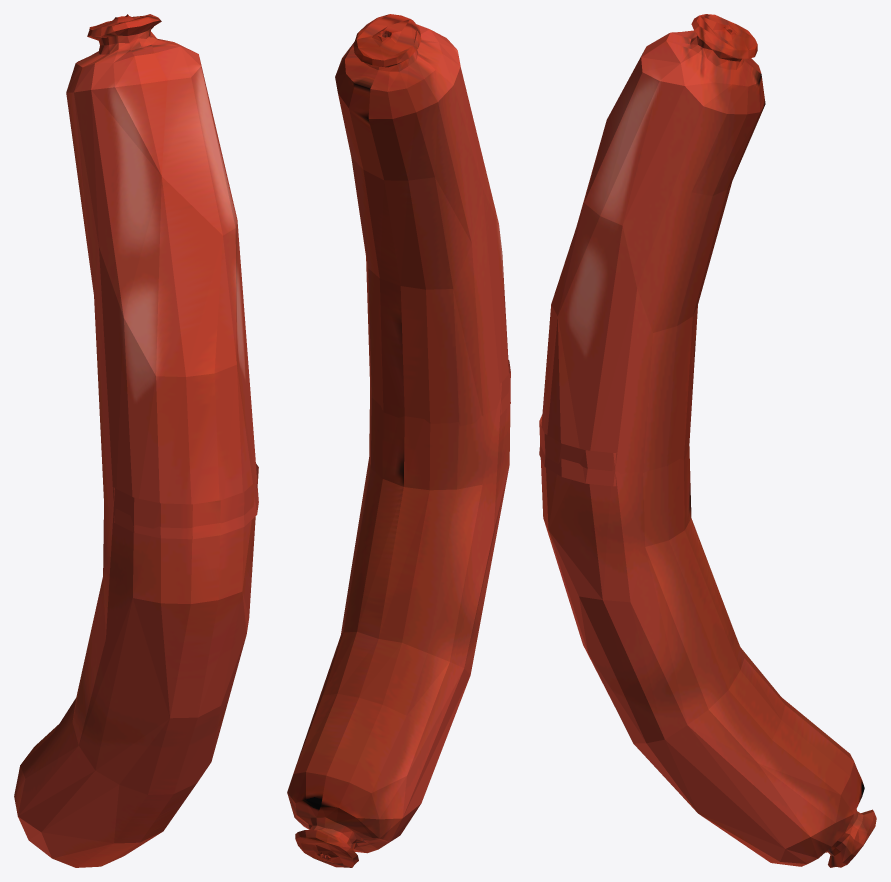
The model's file is Shtomba.glb.
3 renders of one model, left to right at view 1: azimuth 30°, elevation 25°; view 2: azimuth 150°, elevation 25°; view 3: azimuth 270°, elevation 25°, orthographic. The views are drawn at different scales.
Visible parts, largest first — view 1: Shtomba; view 2: Shtomba; view 3: Shtomba.
Part boxes in pixels (box(x1,y1,x2,y2)): Shtomba: box(14, 14, 258, 867); Shtomba: box(287, 14, 510, 867); Shtomba: box(539, 14, 876, 867).
Size of the model in its own units: 66.62 by 415 by 150.
Materials: 1 (1 with a texture image).
